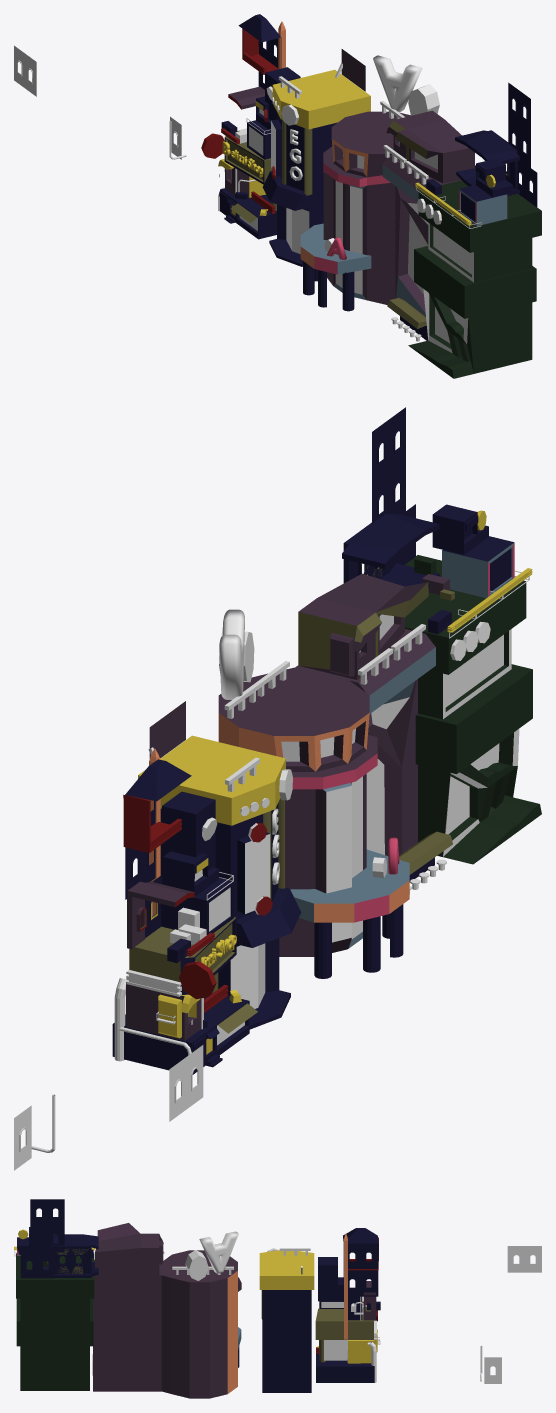
The model's file is Building3.fbx.
3 renders of one model, top to bottom at view 1: azimuth 30°, elevation 25°; view 2: azimuth 150°, elevation 25°; view 3: azimuth 270°, elevation 25°, orthographic. The views are drawn at different scales.
Parts seen in each view (by area): view 1: Cube.015, Cylinder.006, Cube.004, Cube.014, Cube.010, Plane.011, Cylinder.007, Cube.022, Text.003, Floor1, Plane.008, Main2.002 (+17 smaller); view 2: Cylinder.006, Cube.015, Cube.004, Cube.014, Cube.010, Cylinder.007, Plane.011, Floor1, Cube.022, Cube, Cube.002, Cube.008 (+16 smaller); view 3: Cylinder.006, Cube.015, Cube.004, Cube.014, Cube.010, Plane.011, Cube.002, Floor1, Plane.008, Cube.008, Plane.005, Text.003 (+12 smaller).
Boxes of the visible parts, bbox=[...] form: Cube.015: bbox=[408, 180, 541, 378]; Cylinder.006: bbox=[323, 111, 461, 316]; Cube.004: bbox=[262, 112, 337, 266]; Cube.014: bbox=[386, 110, 474, 183]; Cube.010: bbox=[272, 69, 370, 129]; Plane.011: bbox=[455, 130, 519, 195]; Cylinder.007: bbox=[300, 223, 371, 274]; Cube.022: bbox=[459, 185, 507, 226]; Text.003: bbox=[373, 55, 422, 112]; Floor1: bbox=[219, 188, 276, 239]; Plane.008: bbox=[238, 14, 281, 68]; Main2.002: bbox=[475, 158, 513, 197]; Cylinder.006: bbox=[218, 629, 435, 956]; Cube.015: bbox=[405, 555, 541, 864]; Cube.004: bbox=[160, 803, 301, 1029]; Cube.014: bbox=[298, 573, 428, 679]; Cube.010: bbox=[138, 735, 285, 825]; Cylinder.007: bbox=[290, 849, 409, 922]; Plane.011: bbox=[342, 513, 439, 589]; Floor1: bbox=[112, 995, 249, 1074]; Cube.022: bbox=[442, 536, 514, 598]; Cube: bbox=[126, 982, 201, 1040]; Cube.002: bbox=[129, 917, 236, 994]; Cube.008: bbox=[162, 791, 215, 877]; Cylinder.006: bbox=[93, 1250, 241, 1398]; Cube.015: bbox=[16, 1253, 94, 1390]; Cube.004: bbox=[262, 1290, 311, 1392]; Cube.014: bbox=[95, 1223, 163, 1275]; Cube.010: bbox=[259, 1250, 314, 1289]; Plane.011: bbox=[43, 1234, 98, 1277]; Cube.002: bbox=[315, 1306, 373, 1339]; Floor1: bbox=[316, 1347, 374, 1382]; Plane.008: bbox=[343, 1228, 378, 1269]; Cube.008: bbox=[318, 1257, 337, 1301]; Plane.005: bbox=[507, 1246, 541, 1272]; Text.003: bbox=[199, 1231, 238, 1273].
Size of the model in its own units: 1655 by 2181 by 5140.
